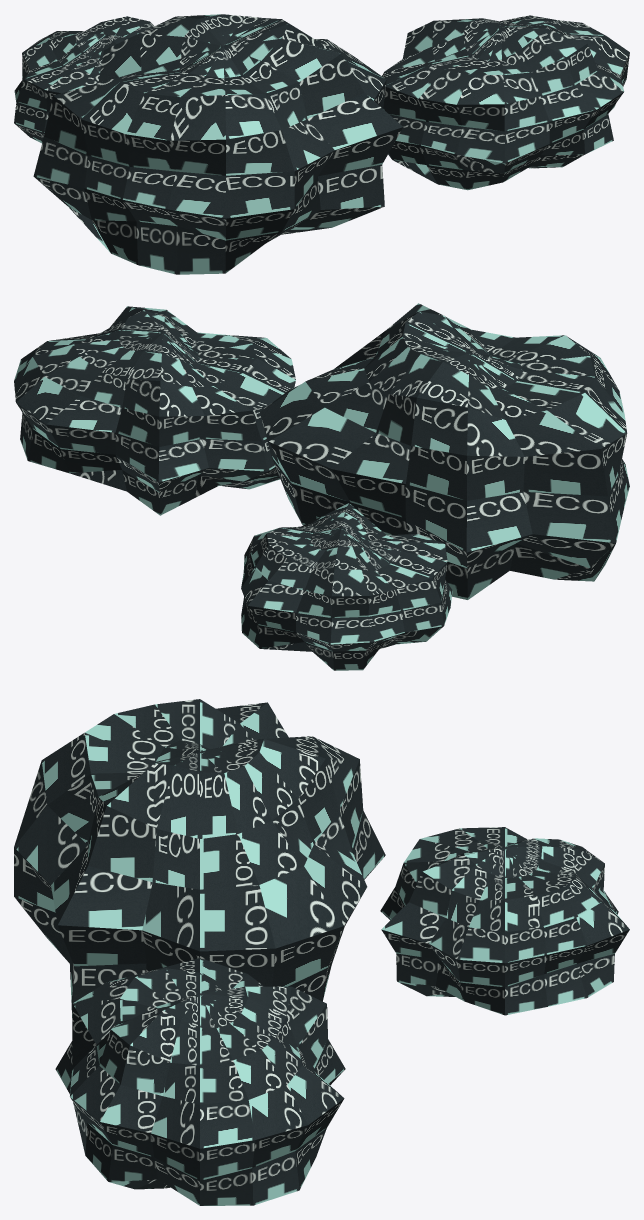
The model's file is rock_cluster_LOD0.obj.
3 views of the same model, one above another, from view 1: azimuth 30°, elevation 25°; view 2: azimuth 150°, elevation 25°; view 3: azimuth 270°, elevation 25° (orthographic). The views are drawn at different scales.
Visible parts, largest first — view 1: L02_rock_cluster_LOD0; view 2: L02_rock_cluster_LOD0; view 3: L02_rock_cluster_LOD0.
Part boxes in pixels (left/top/right/bottom): L02_rock_cluster_LOD0: left=14, top=14, right=629, bottom=274; L02_rock_cluster_LOD0: left=14, top=303, right=629, bottom=670; L02_rock_cluster_LOD0: left=14, top=699, right=629, bottom=1205.
Bounding box in the file's own units: 4.5 × 1.59 × 3.23.
Materials: 1 (1 with a texture image).
